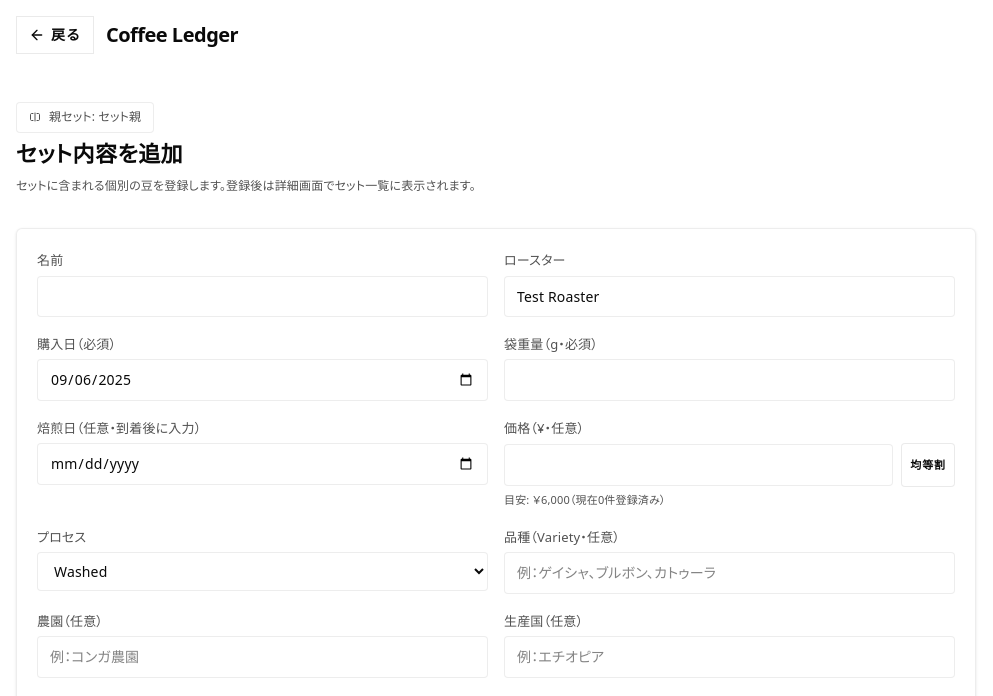
it: AddChildBagPage › allows toggling to custom process input
expect the text "親セット: セット親" is shown: met, box [49,107,141,128]
Select "その他（手入力）" in the dropdown labelled "プロセス". click: (262, 572)
box: [37,552,488,591]
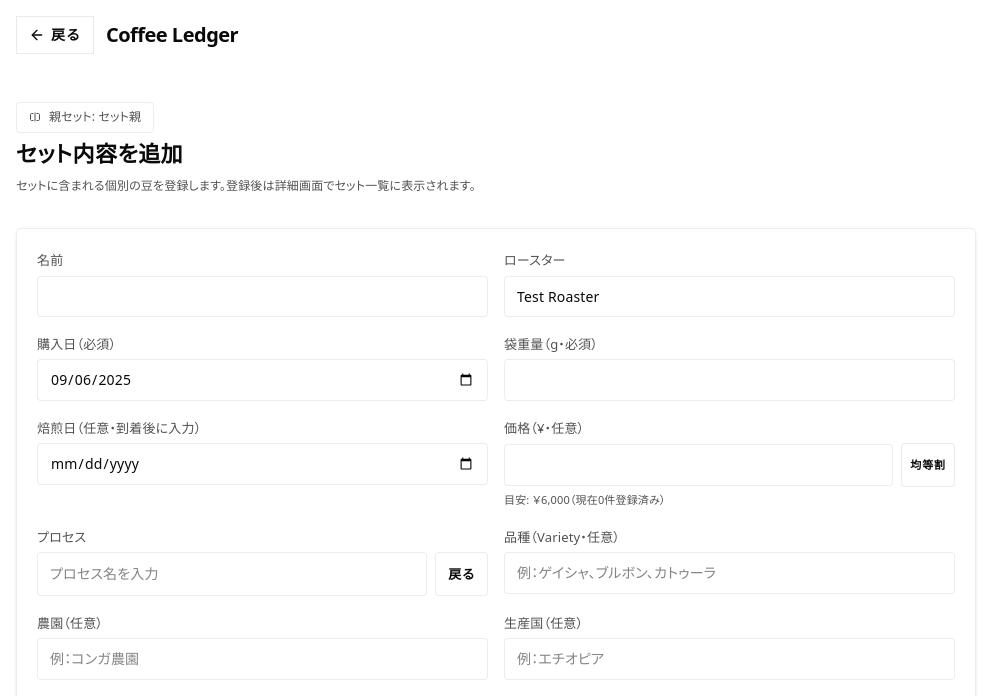
expect the field with placeholder "プロセス名を入力" is shown: met, box [37,552,427,596]
Click the button "戻る" below "品種（Variety・任意）". click: (462, 574)
box: [435,552,488,596]
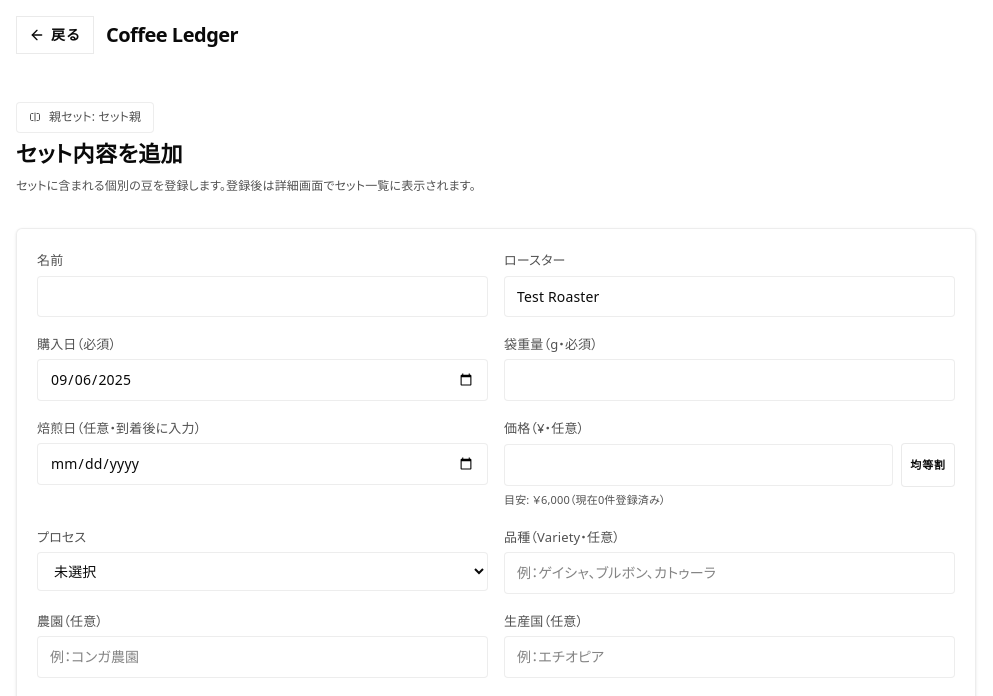
expect the field with placeholder "プロセス名を入力" is gone: met
expect the dropdown labelled "プロセス" is shown: met, box [37,552,488,591]
